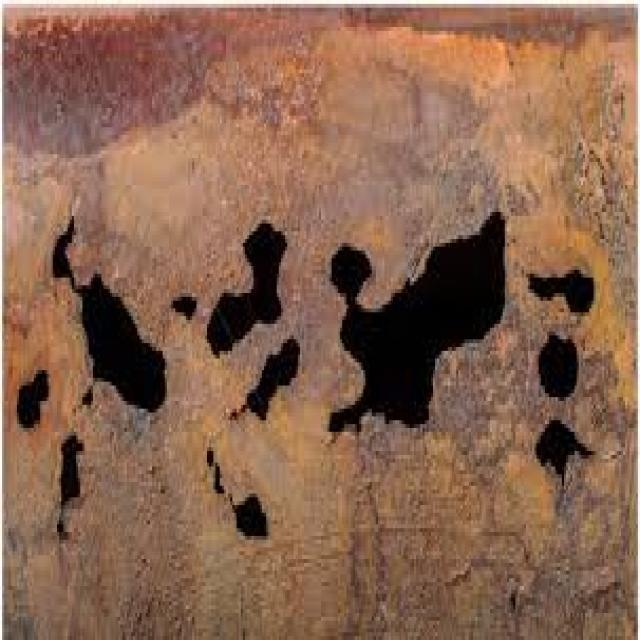hole: (328, 208, 508, 432), (47, 213, 174, 419), (208, 220, 288, 354), (236, 342, 305, 421), (534, 422, 602, 479), (529, 261, 596, 317), (537, 334, 580, 401), (58, 436, 84, 511), (16, 377, 53, 427), (232, 491, 266, 541), (169, 293, 201, 321)
